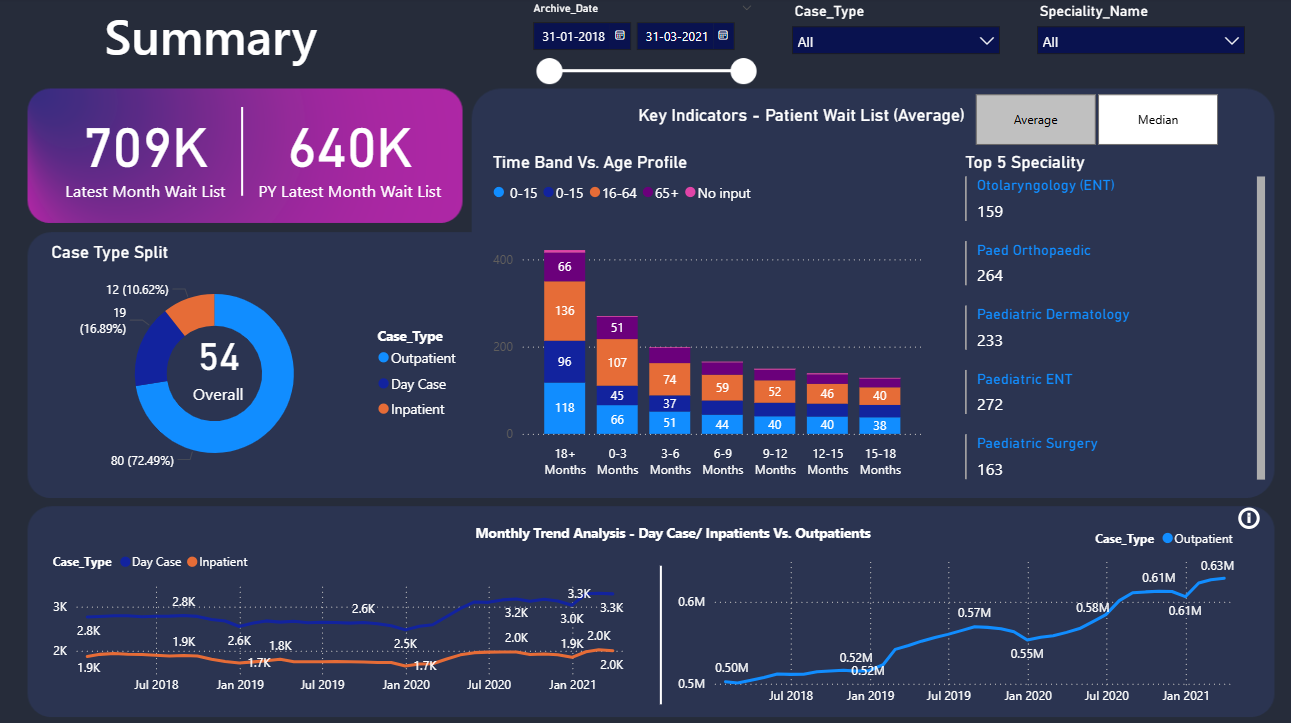

The page's visual inventory and layout, read from the dashboard file:
{"tool":"powerbi","page":{"name":"Summary","canvas":[1280,720],"ordinal":0},"visuals":[{"type":"card","fields":{"Values":["All_Data.Latest Month Wait List"]},"box":[16,96,256,112],"z":0},{"type":"card","fields":{"Values":["All_Data.PY Latest Month Wait List"]},"box":[208,96,272,112],"z":1000},{"type":"slicer","fields":{"Values":["calculation method.Calc method"]},"box":[932.5,88.3,288.3,63.8],"z":2000},{"type":"card","fields":{"Values":["All_Data.NoDataLeft"]},"box":[208.6,566.9,269.9,119],"z":3000},{"type":"card","fields":{"Values":["All_Data.NoDataRight"]},"box":[820.7,567.6,247.2,118.5],"z":4000},{"type":"donutChart","title":"Case Type Split","fields":{"Category":["All_Data.Case_Type"],"Y":["All_Data.Avg/Med Wait List"]},"box":[46.6,240.5,416,239.3],"z":5000},{"type":"columnChart","title":"Time Band Vs. Age Profile","fields":{"Y":["All_Data.Avg/Med Wait List"],"Category":["All_Data.Time_Bands"],"Series":["All_Data.Age_Profile"]},"box":[479.8,152.1,431.9,327.6],"z":6000},{"type":"multiRowCard","title":"Top 5 Speciality","fields":{"Values":["All_Data.Speciality_Name","All_Data.Avg/Med Wait List"]},"box":[943.6,152.1,304.3,338.7],"z":7000},{"type":"lineChart","title":"- Day Case/Inpatients Vs. Outpatients","fields":{"Category":["All_Data.Archive_Date"],"Y":["Sum(All_Data.Total)"],"Series":["All_Data.Case_Type"]},"box":[672,512,560,192],"z":8000},{"type":"slicer","fields":{"Values":["All_Data.Archive_Date"]},"box":[512,0,240,96],"z":9000},{"type":"slicer","fields":{"Values":["All_Data.Case_Type"]},"box":[768,0,224,80],"z":10000},{"type":"slicer","fields":{"Values":["All_Data.Speciality_Name"]},"box":[1008,0,224,80],"z":11000},{"type":"textbox","box":[64,0,288,80],"z":12000},{"type":"card","fields":{"Values":["All_Data.Avg/Med Wait List"]},"box":[176,304,80,112],"z":13000},{"type":"shape","box":[195.1,108,87.1,87.1],"z":14000},{"type":"shape","box":[601.2,558.3,96.9,136.2],"z":15000},{"type":"card","fields":{"Values":["All_Data.Dynamic Title"]},"box":[601.2,52.8,373,127.6],"z":16000},{"type":"textbox","box":[462.6,511.7,417.2,33.1],"z":17000},{"type":"actionButton","box":[1212.3,496.9,35.6,29.4],"z":18000},{"type":"lineChart","fields":{"Category":["All_Data.Archive_Date"],"Series":["All_Data.Case_Type"],"Y":["CountNonNull(All_Data.Specialty_Name)"]},"box":[47.6,534.9,583.9,158.6],"z":19000}]}

Visuals, with their boxes in screenshot pixels (x1, y1, x2, y2), scaled from the page's 1280x720 canvas onto the 1291x723 screenshot:
card - All_Data.Latest Month Wait List: x1=16 y1=96 x2=274 y2=209
card - All_Data.PY Latest Month Wait List: x1=210 y1=96 x2=484 y2=209
slicer - calculation method.Calc method: x1=941 y1=89 x2=1231 y2=153
card - All_Data.NoDataLeft: x1=210 y1=569 x2=483 y2=689
card - All_Data.NoDataRight: x1=828 y1=570 x2=1077 y2=689
"Case Type Split" donutChart: x1=47 y1=242 x2=467 y2=482
"Time Band Vs. Age Profile" columnChart: x1=484 y1=153 x2=920 y2=482
"Top 5 Speciality" multiRowCard: x1=952 y1=153 x2=1259 y2=493
"- Day Case/Inpatients Vs. Outpatients" lineChart: x1=678 y1=514 x2=1243 y2=707
slicer - All_Data.Archive_Date: x1=516 y1=0 x2=758 y2=96
slicer - All_Data.Case_Type: x1=775 y1=0 x2=1001 y2=80
slicer - All_Data.Speciality_Name: x1=1017 y1=0 x2=1243 y2=80
textbox: x1=65 y1=0 x2=355 y2=80
card - All_Data.Avg/Med Wait List: x1=178 y1=305 x2=258 y2=418
shape: x1=197 y1=108 x2=285 y2=196
shape: x1=606 y1=561 x2=704 y2=697
card - All_Data.Dynamic Title: x1=606 y1=53 x2=983 y2=181
textbox: x1=467 y1=514 x2=887 y2=547
actionButton: x1=1223 y1=499 x2=1259 y2=528
lineChart - All_Data.Archive_Date x All_Data.Case_Type: x1=48 y1=537 x2=637 y2=696
